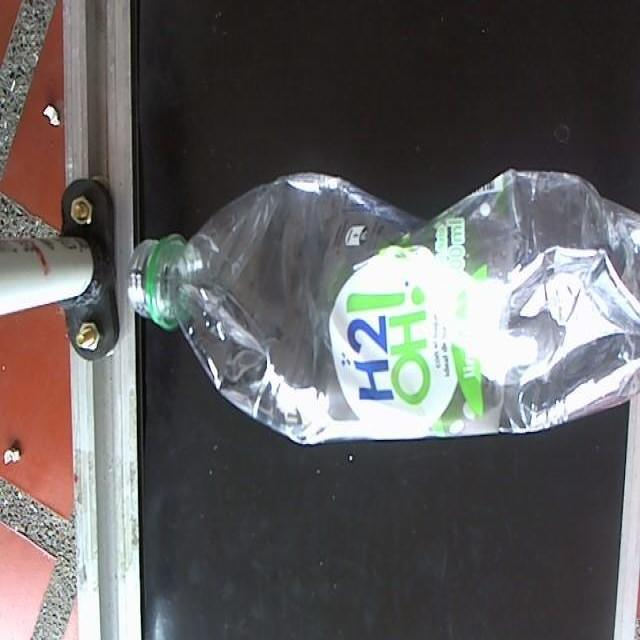defect: (123, 162, 640, 450)
